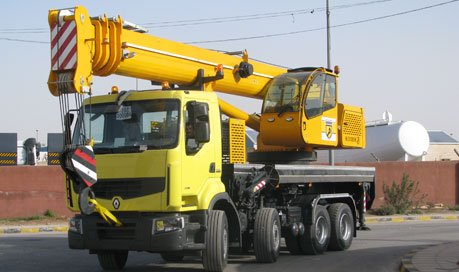crane: (44, 4, 380, 270)
